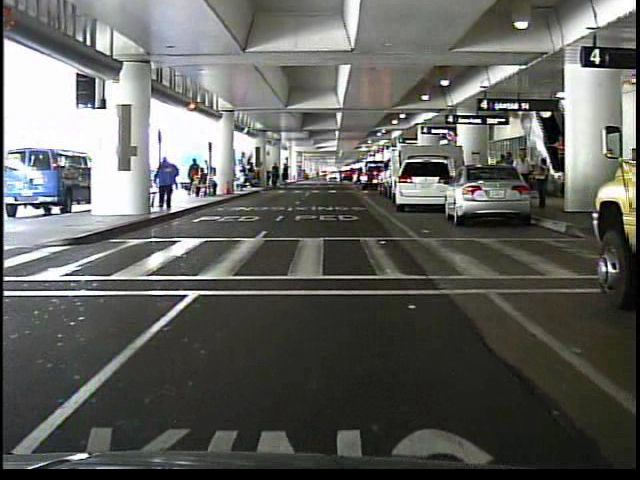person: (152, 153, 180, 211)
